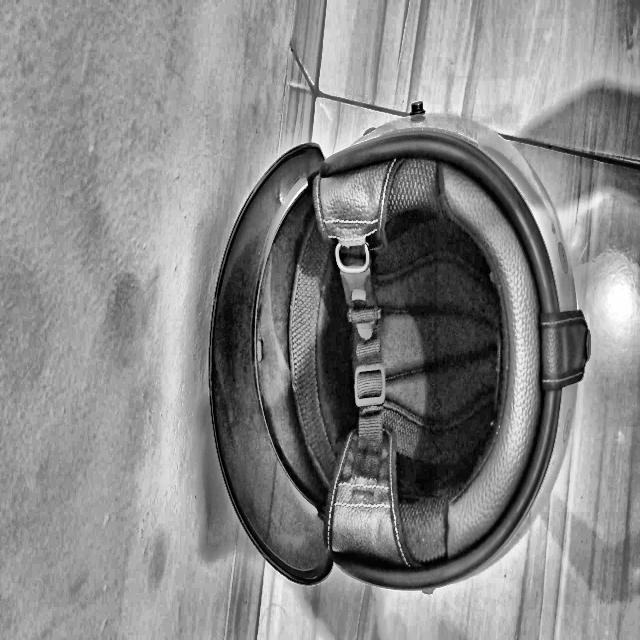Helmet: (189, 88, 583, 598)
